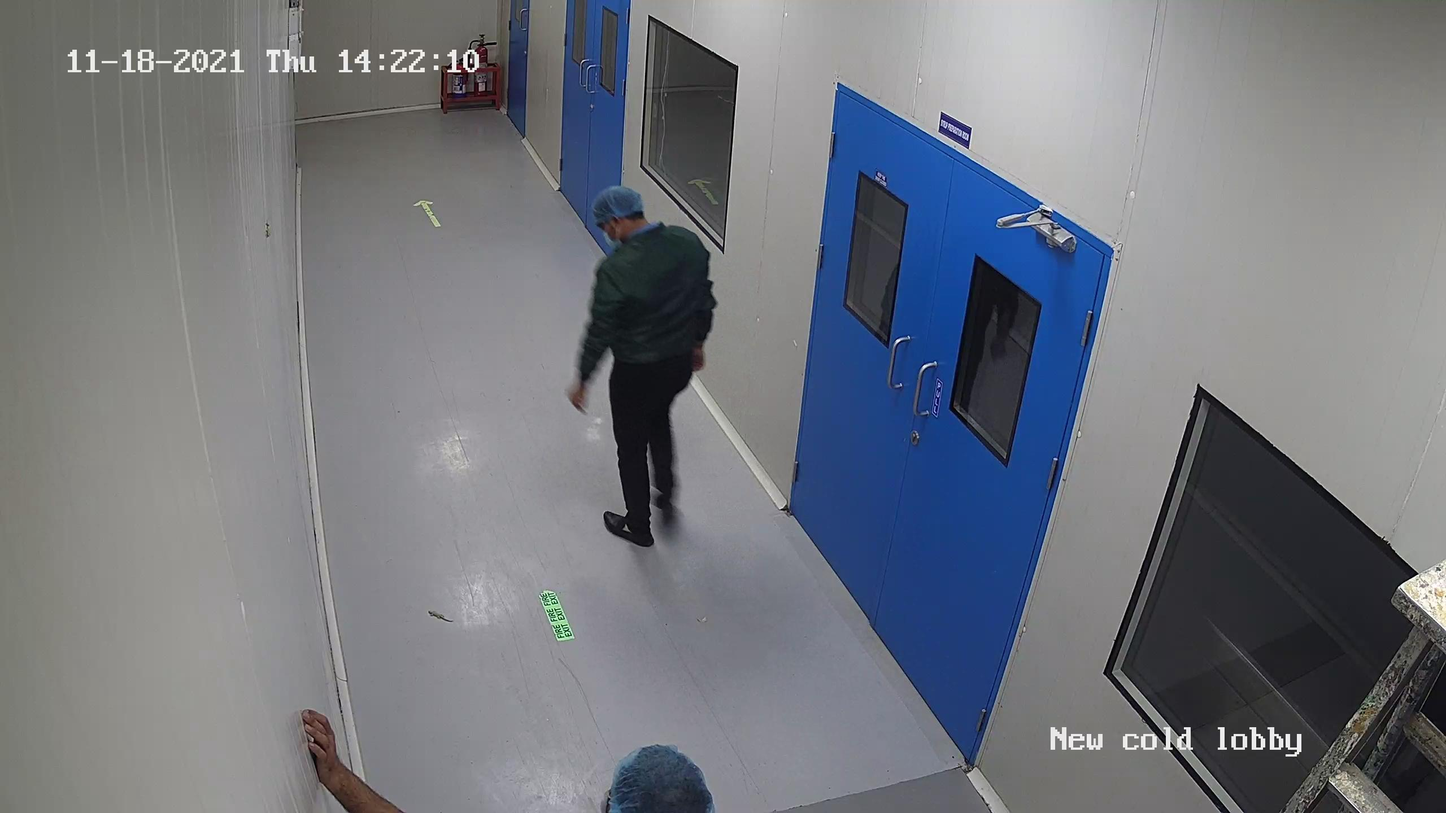lizard: (425, 605, 457, 625)
